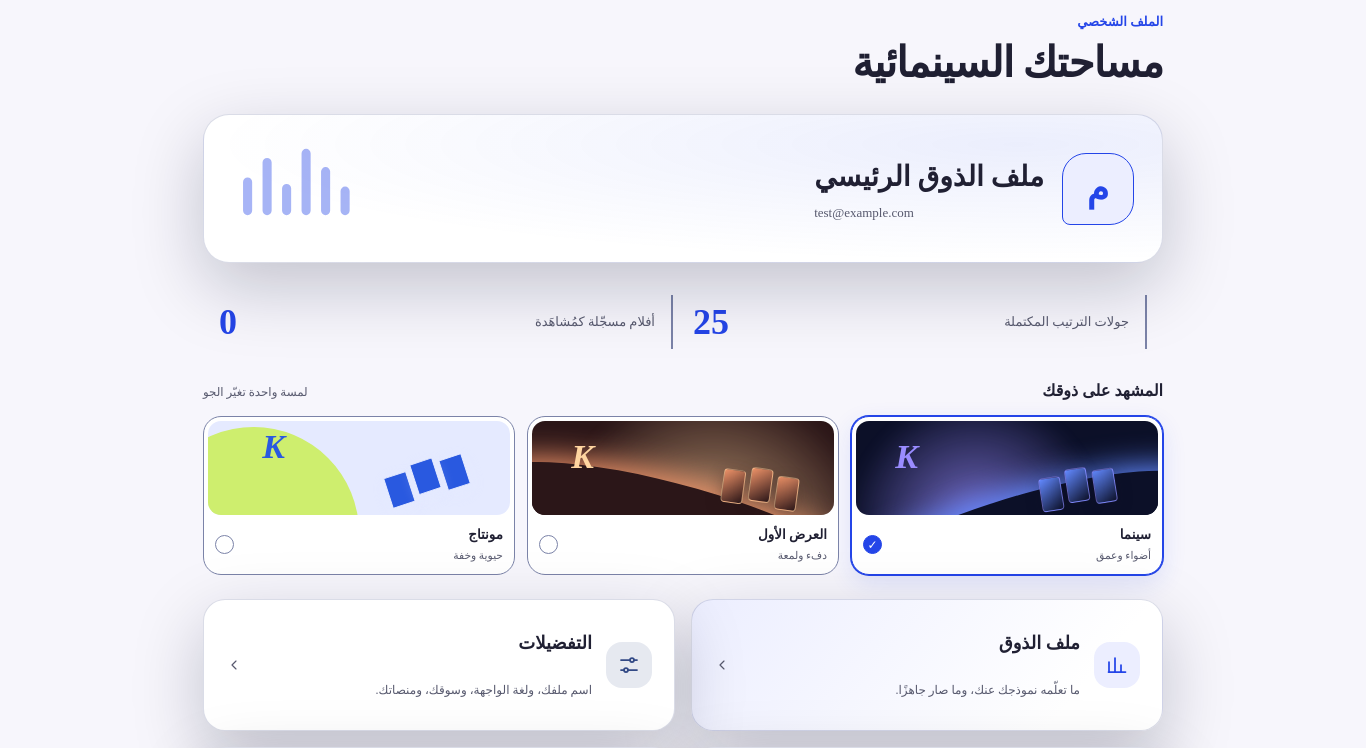
Test: ProfileScreen — training state › shows model version and confidence band when trained
What coordinates should you click on to do the following:
click the button "ملف الذوق ما تعلّمه نموذجك عنك، وما صار جاهزًا."
I would click on:
 (1117, 665)
Its box is [691,599,1163,731].
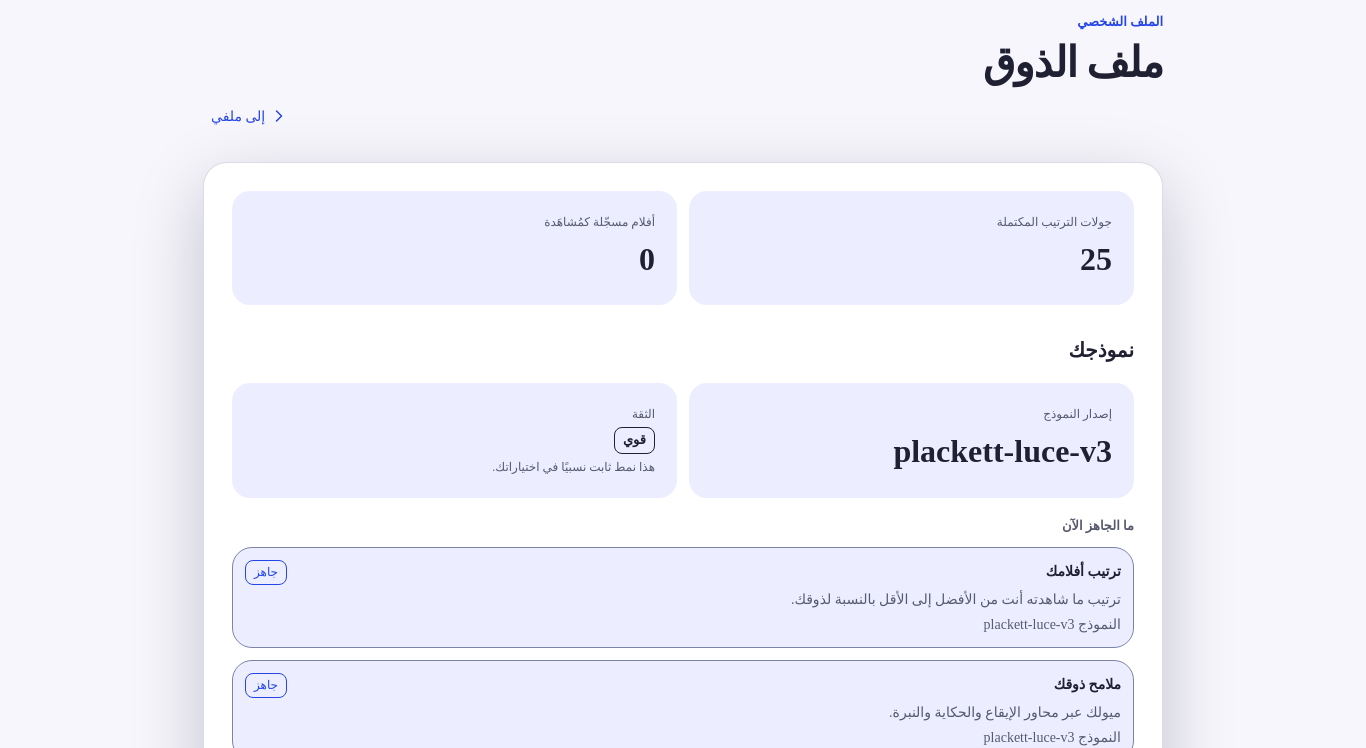
Check: the text "plackett-luce-v3" is shown, box [893,434,1112,470]
Check: the text "قوي" is shown, box [614,427,655,454]
